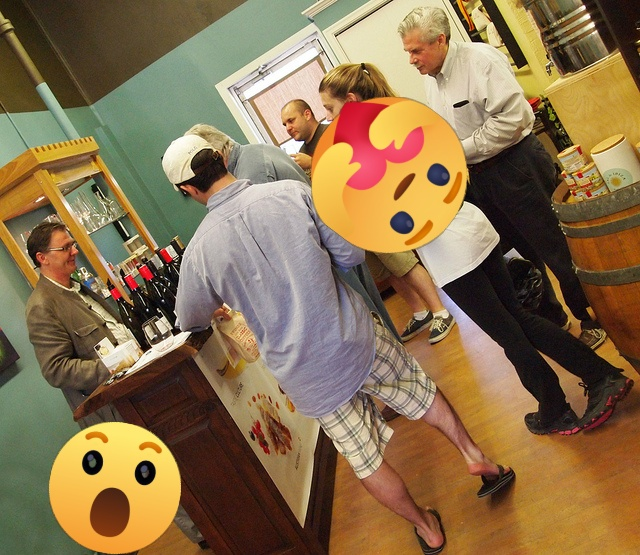care: (311, 97, 467, 253)
wow: (49, 422, 181, 554)
